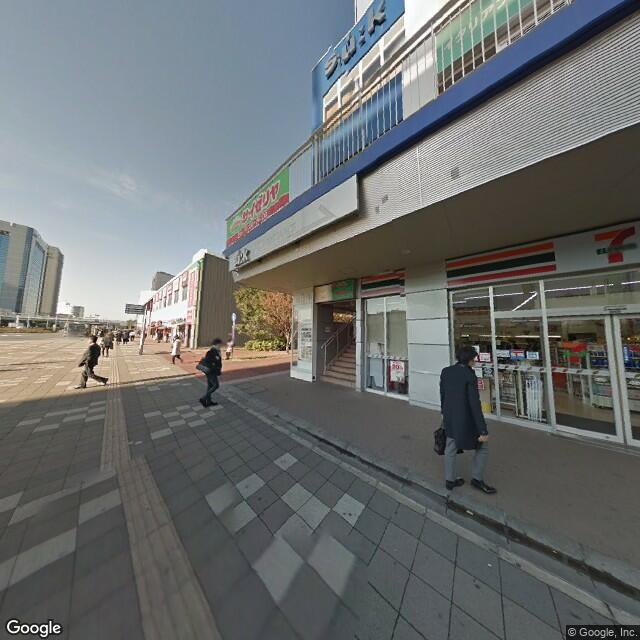7-eleven: (361, 217, 639, 307)
